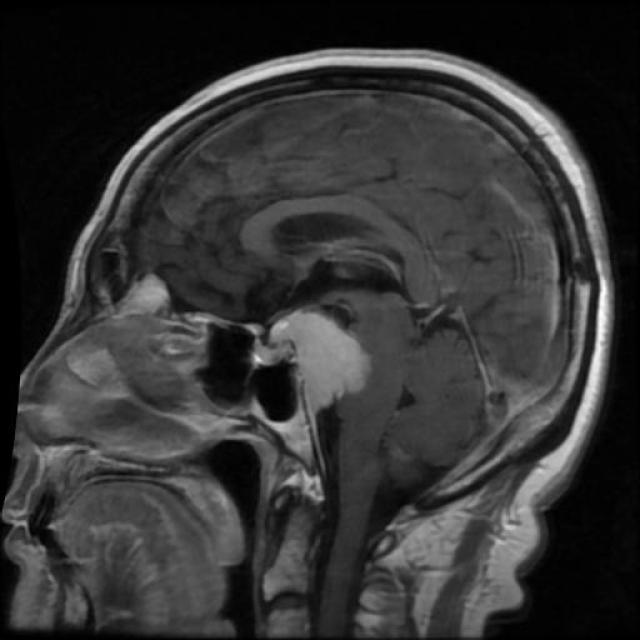meningioma: (270, 312, 371, 424)
